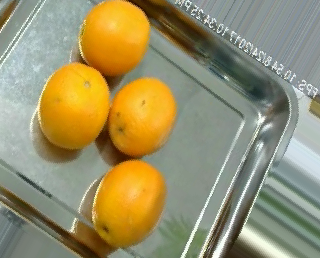Orange: (91, 159, 166, 248), (37, 63, 109, 150), (79, 1, 151, 77), (108, 76, 176, 156)
